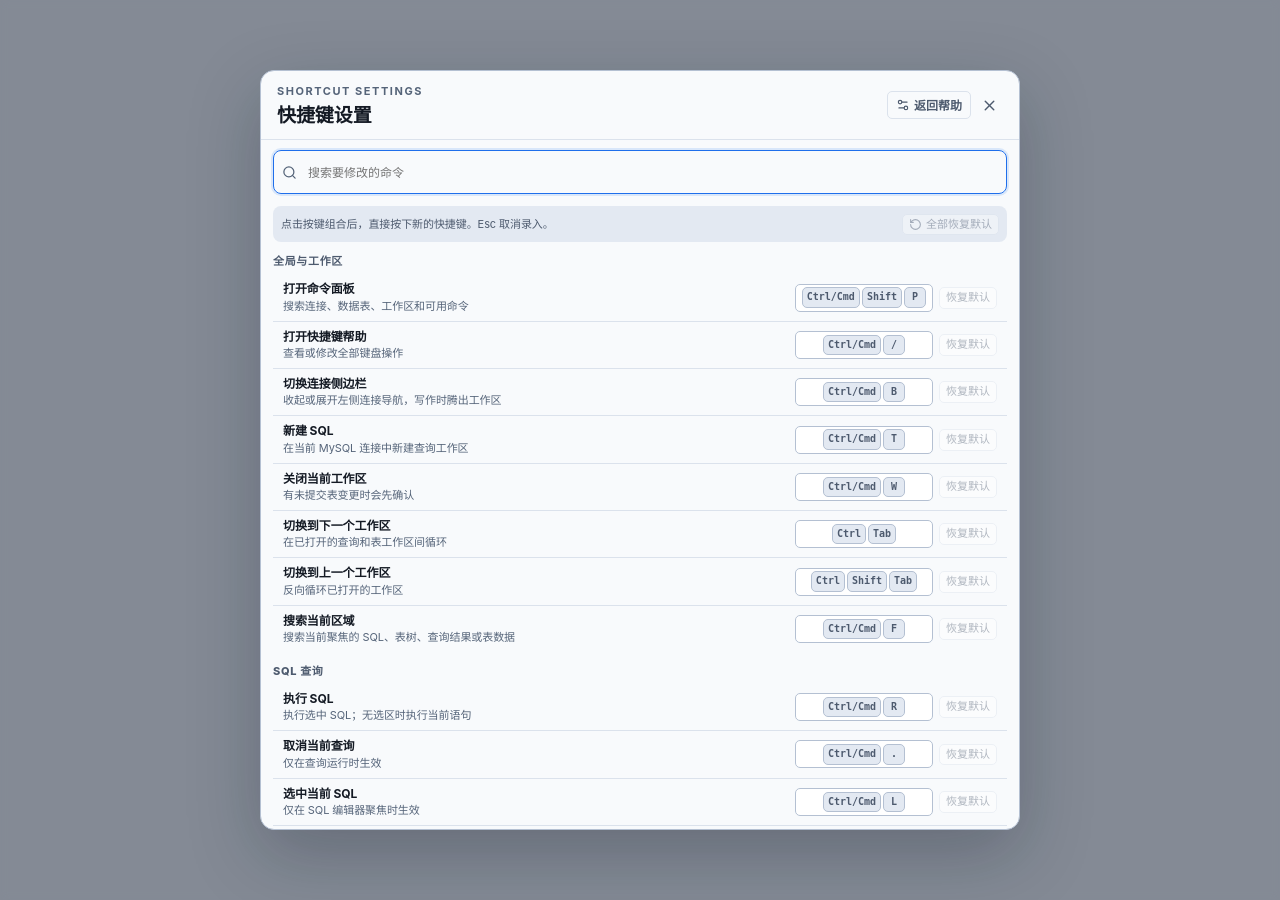
ShortcutHelpDialog › restores one binding or every binding to defaults
Click the button with aria-label "修改新建 SQL".
click(864, 440)  # box [795,426,933,454]
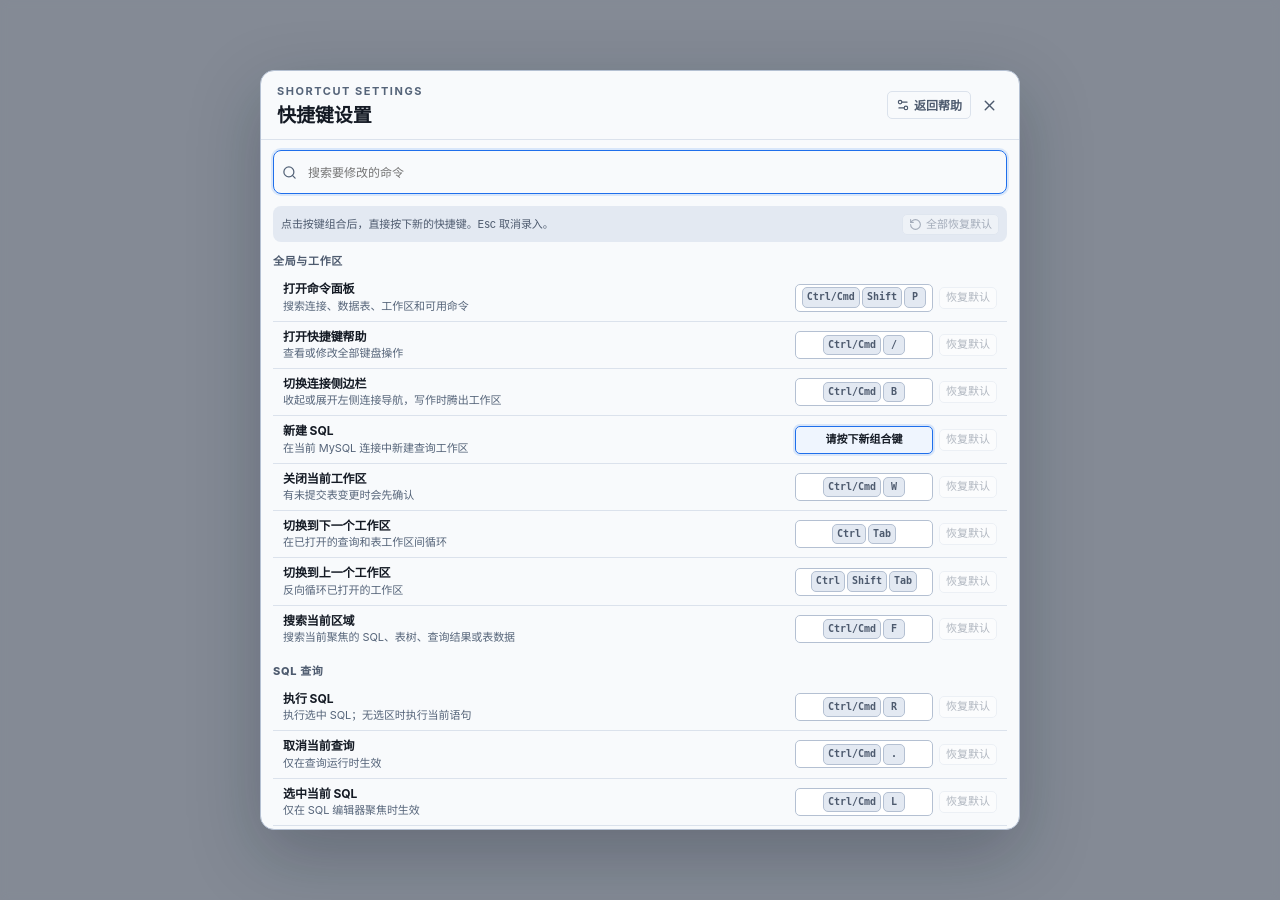
Press n
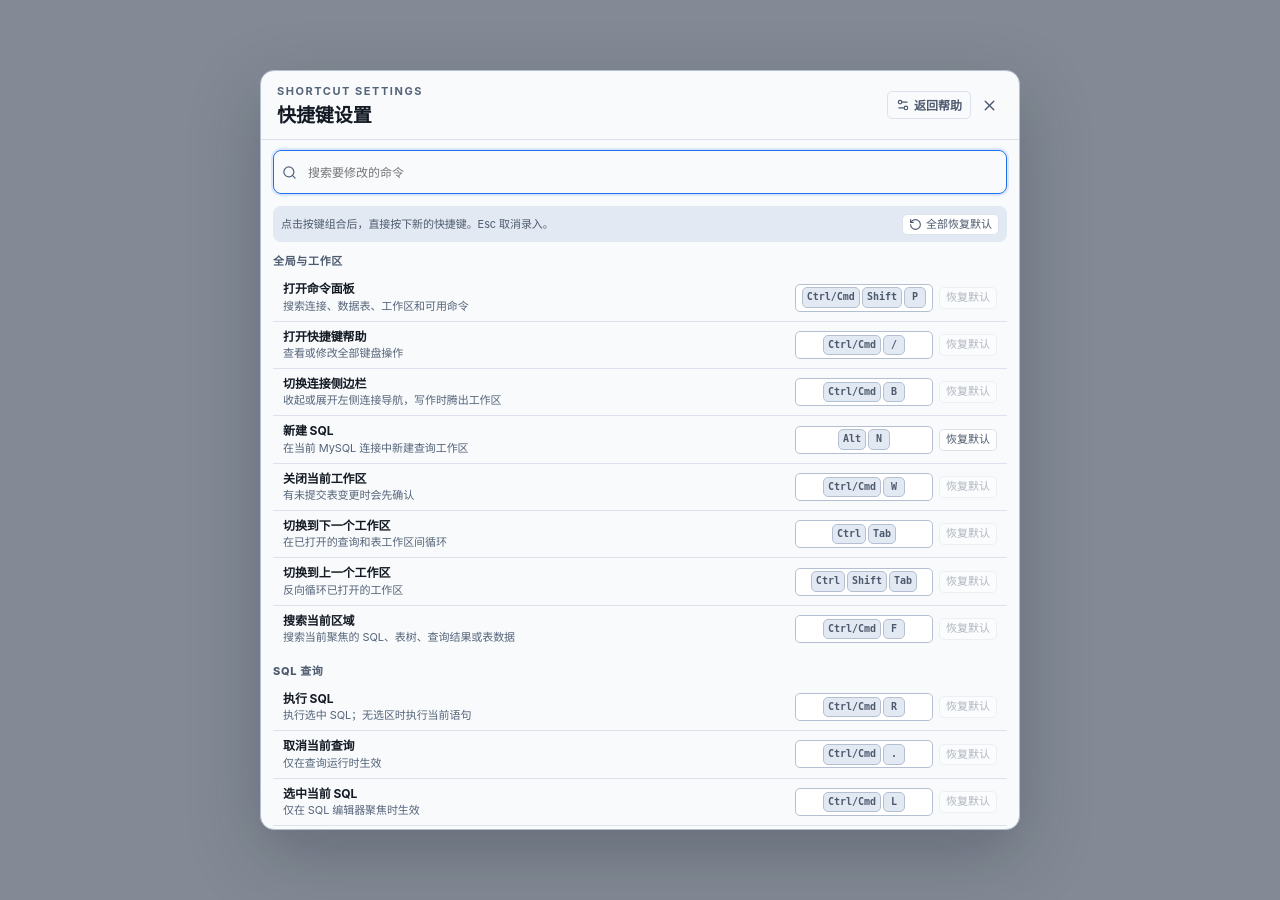
Now the button with aria-label "恢复新建 SQL默认快捷键" is enabled
Click the button with aria-label "恢复新建 SQL默认快捷键".
click(968, 440)  # box [939,429,997,450]
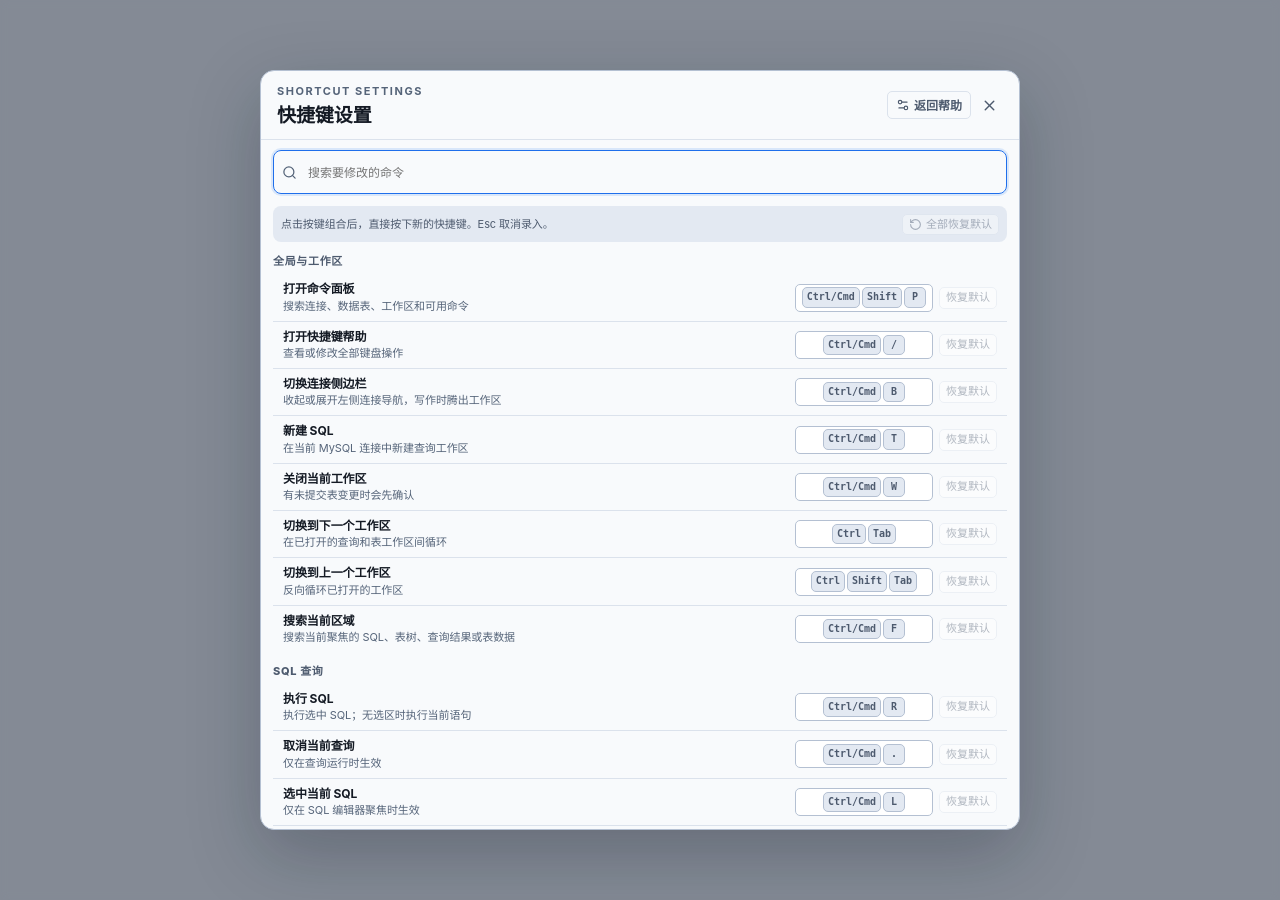
Now the button with aria-label "恢复新建 SQL默认快捷键" is disabled, box [939,429,997,450]
Click the button with aria-label "修改新建 SQL".
click(864, 440)  # box [795,426,933,454]
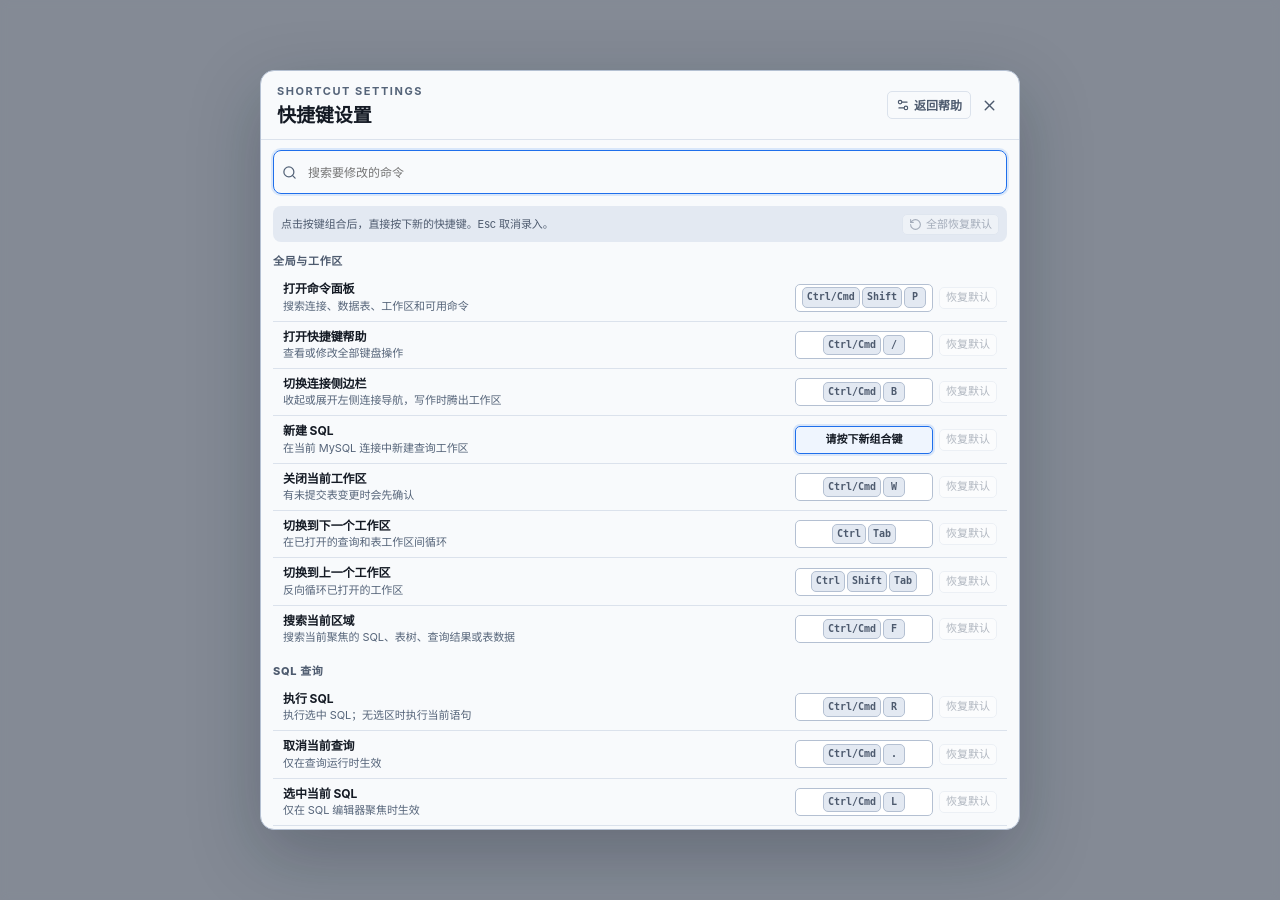
Press n
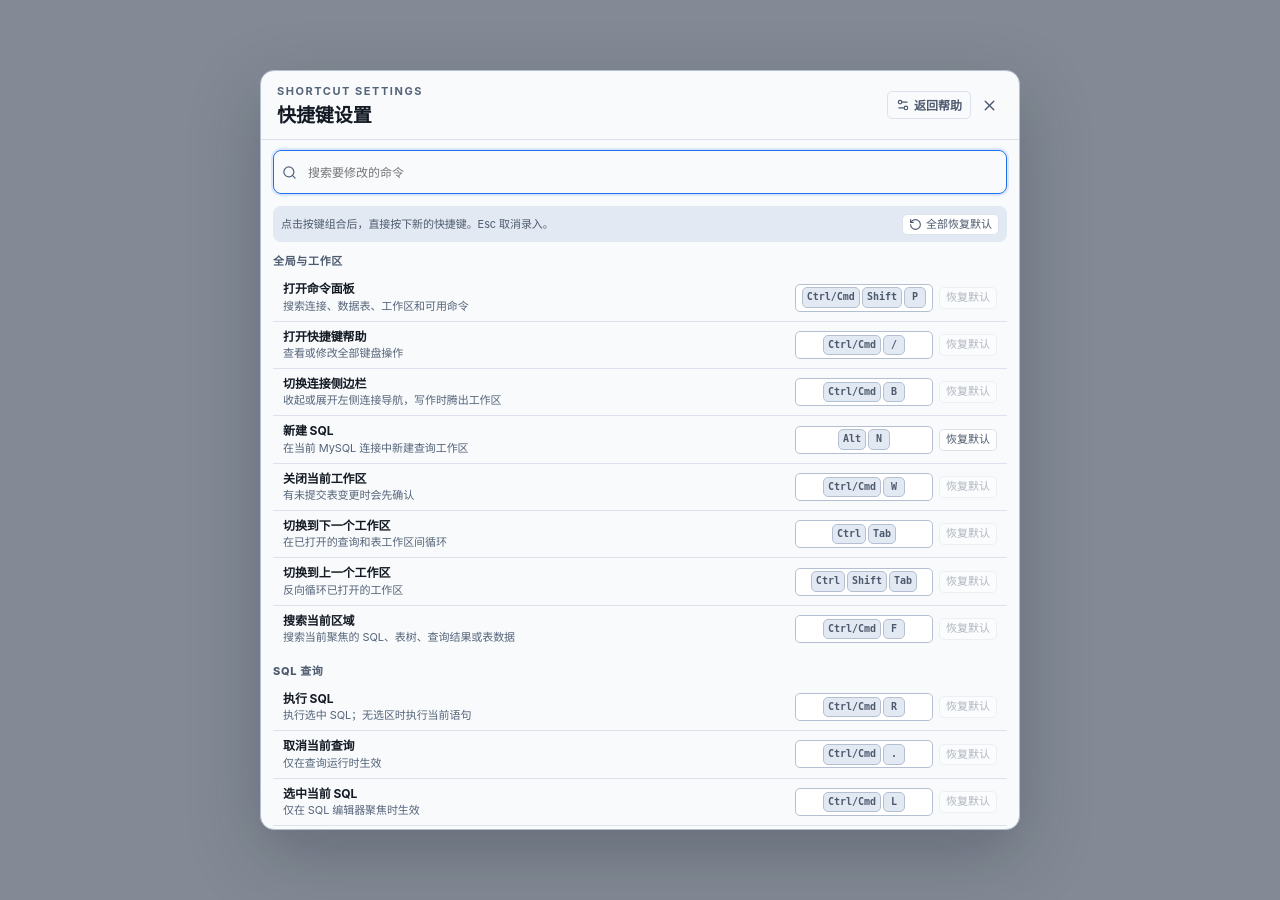
Click the button "全部恢复默认".
click(950, 224)  # box [902,214,999,235]
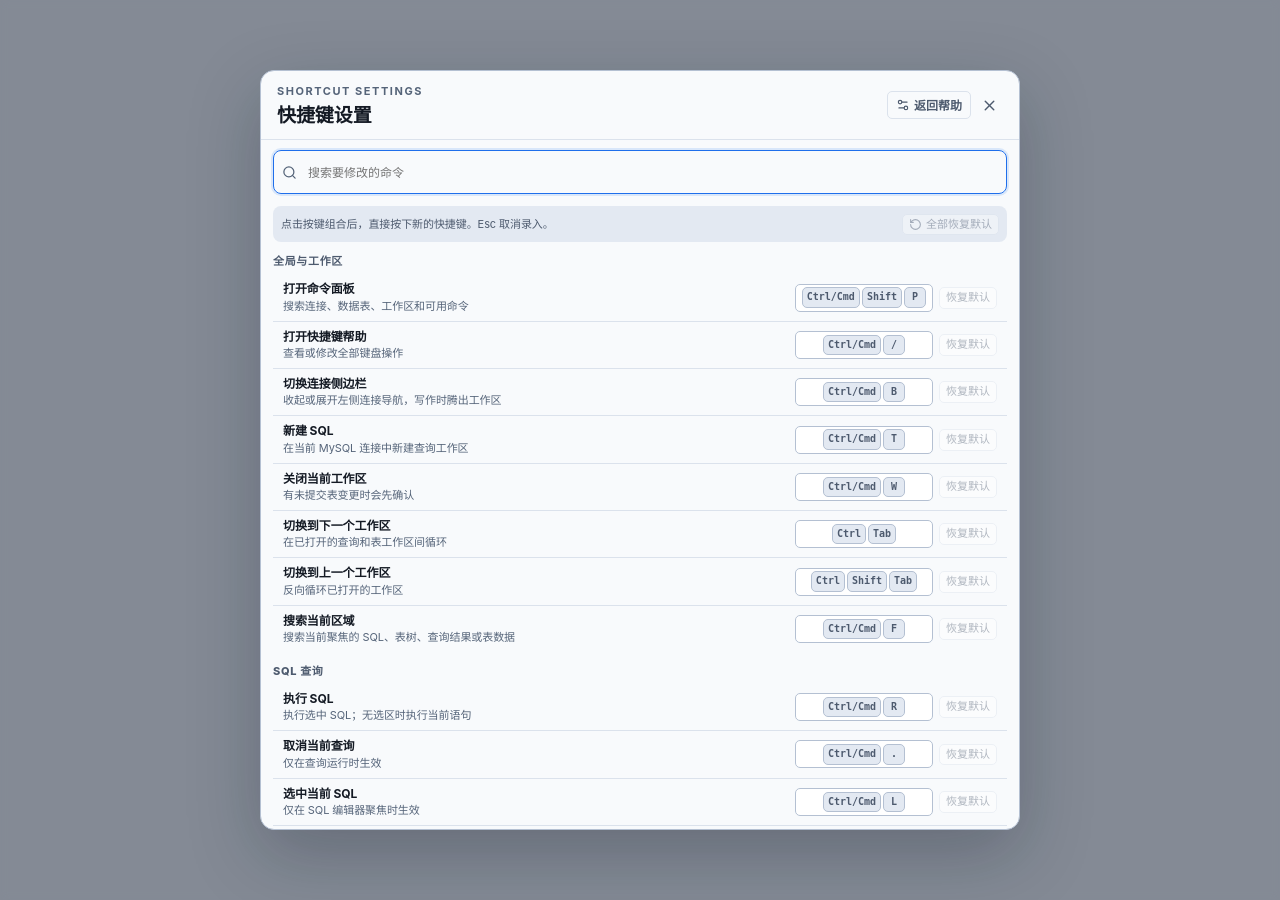
Now the button "全部恢复默认" is disabled, box [902,214,999,235]
